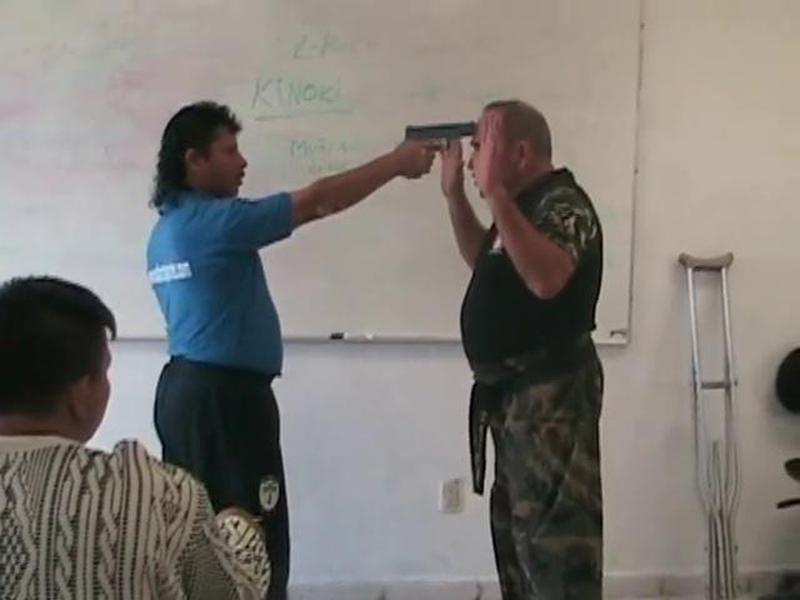Pistola: (390, 100, 487, 177)
